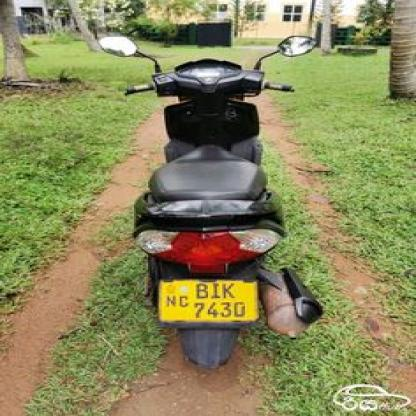bike back: (92, 31, 326, 380)
number plate: (161, 282, 255, 322)
